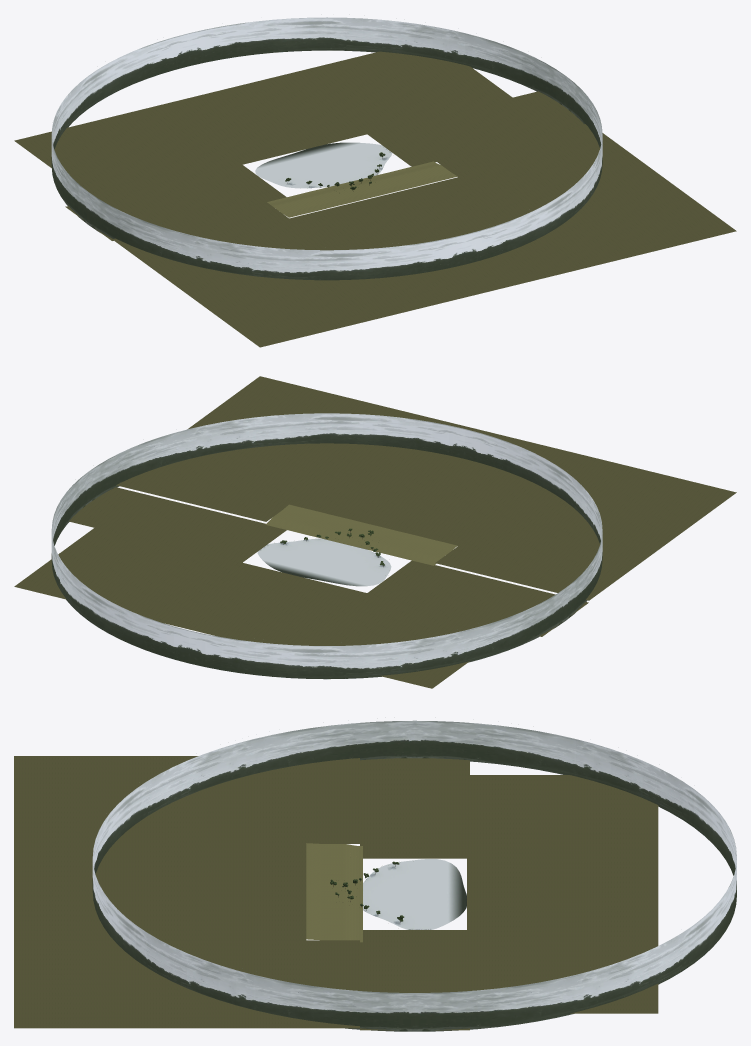
The model's file is muir-fountain-lake.glb.
3 views of the same model, one above another, from view 1: azimuth 30°, elevation 25°; view 2: azimuth 150°, elevation 25°; view 3: azimuth 270°, elevation 25° (orthographic). The views are drawn at different scales.
Visible parts, largest first — view 1: far_ground, backdrop_1923, artifact_lake, artifact_meadow; view 2: far_ground, backdrop_1923, artifact_lake, artifact_meadow; view 3: far_ground, backdrop_1923, artifact_lake, artifact_meadow.
Boxes of the visible parts, left/top/right/bottom form: far_ground: left=14, top=51, right=736, bottom=347; backdrop_1923: left=51, top=17, right=602, bottom=280; artifact_lake: left=255, top=142, right=392, bottom=188; artifact_meadow: left=267, top=161, right=457, bottom=217; far_ground: left=14, top=376, right=736, bottom=688; backdrop_1923: left=51, top=413, right=602, bottom=679; artifact_lake: left=257, top=538, right=391, bottom=586; artifact_meadow: left=265, top=504, right=457, bottom=565; far_ground: left=14, top=756, right=658, bottom=1030; backdrop_1923: left=92, top=720, right=736, bottom=1031; artifact_lake: left=363, top=859, right=466, bottom=929; artifact_meadow: left=306, top=843, right=362, bottom=942.
Size of what is drawn, in the model's own units: 1300 by 94.27 by 1459.
Materials: 5 (4 with a texture image).
